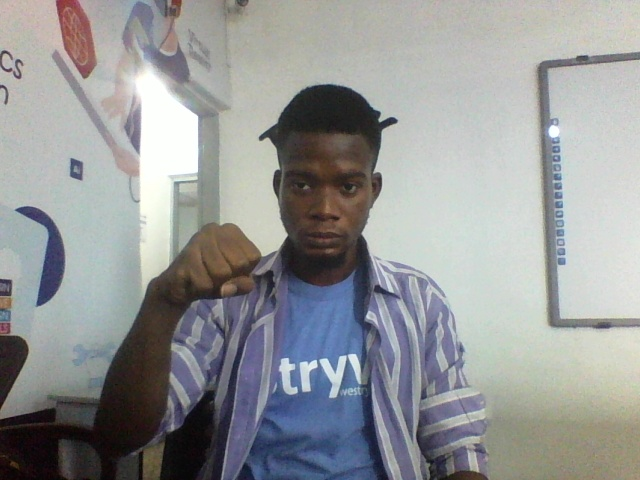yes: (133, 219, 261, 354)
